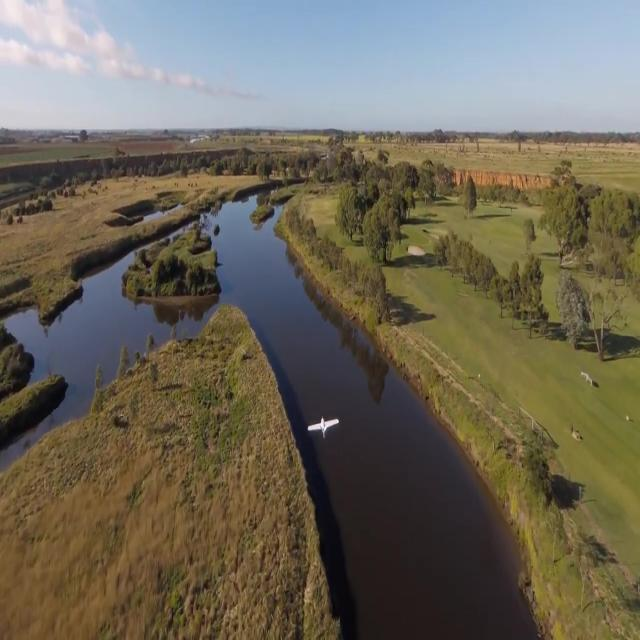iha: (308, 415, 339, 438)
